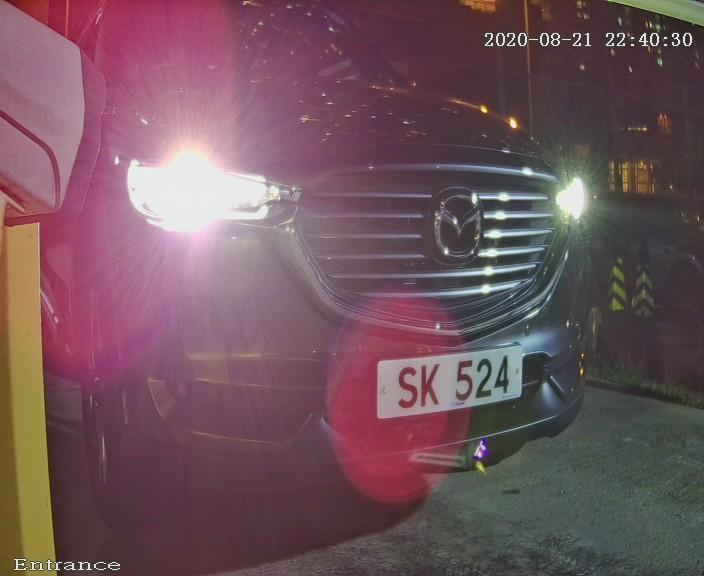License Plate: (345, 323, 545, 442)
